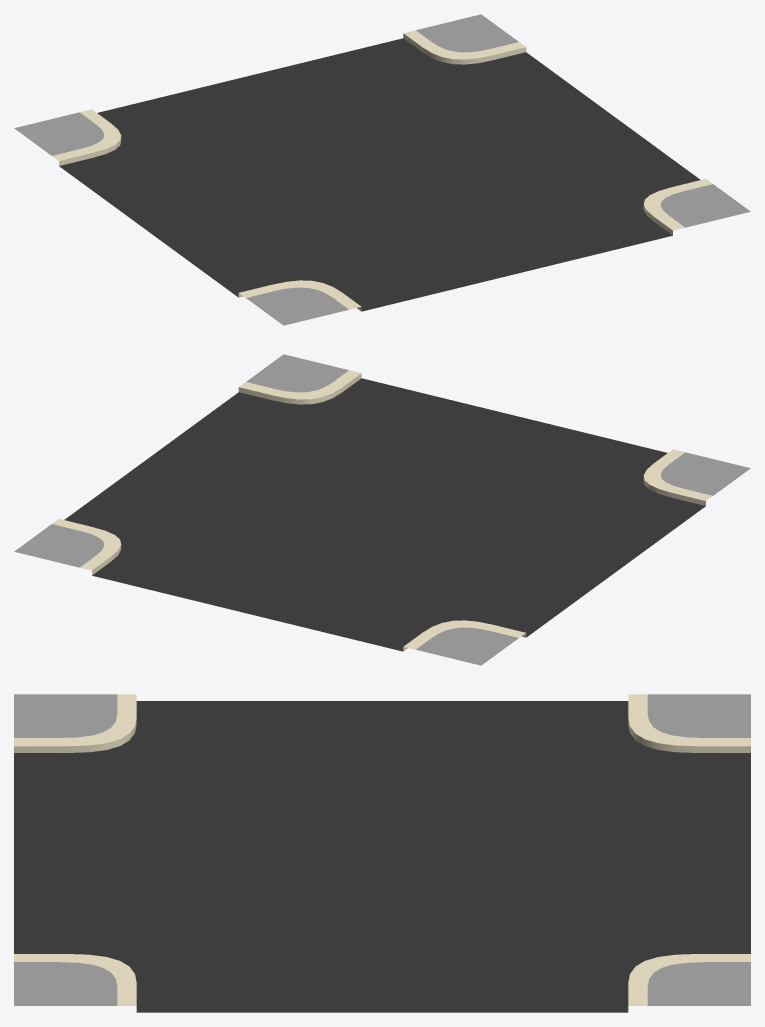
Rendered from Strasse2.glb.
The picture shows the model from 3 angles, top to bottom: view 1: azimuth 30°, elevation 25°; view 2: azimuth 150°, elevation 25°; view 3: azimuth 270°, elevation 25°; orthographic projection. The views are drawn at different scales.
Visible parts, largest first — view 1: Strasse2; view 2: Strasse2; view 3: Strasse2.
Part boxes in pixels (left/top/right/bottom): Strasse2: left=14, top=14, right=750, bottom=325; Strasse2: left=14, top=354, right=750, bottom=665; Strasse2: left=14, top=694, right=750, bottom=1012.
Size of the model in its own units: 6 by 0.061 by 6.
Materials: 1 (1 with a texture image).
